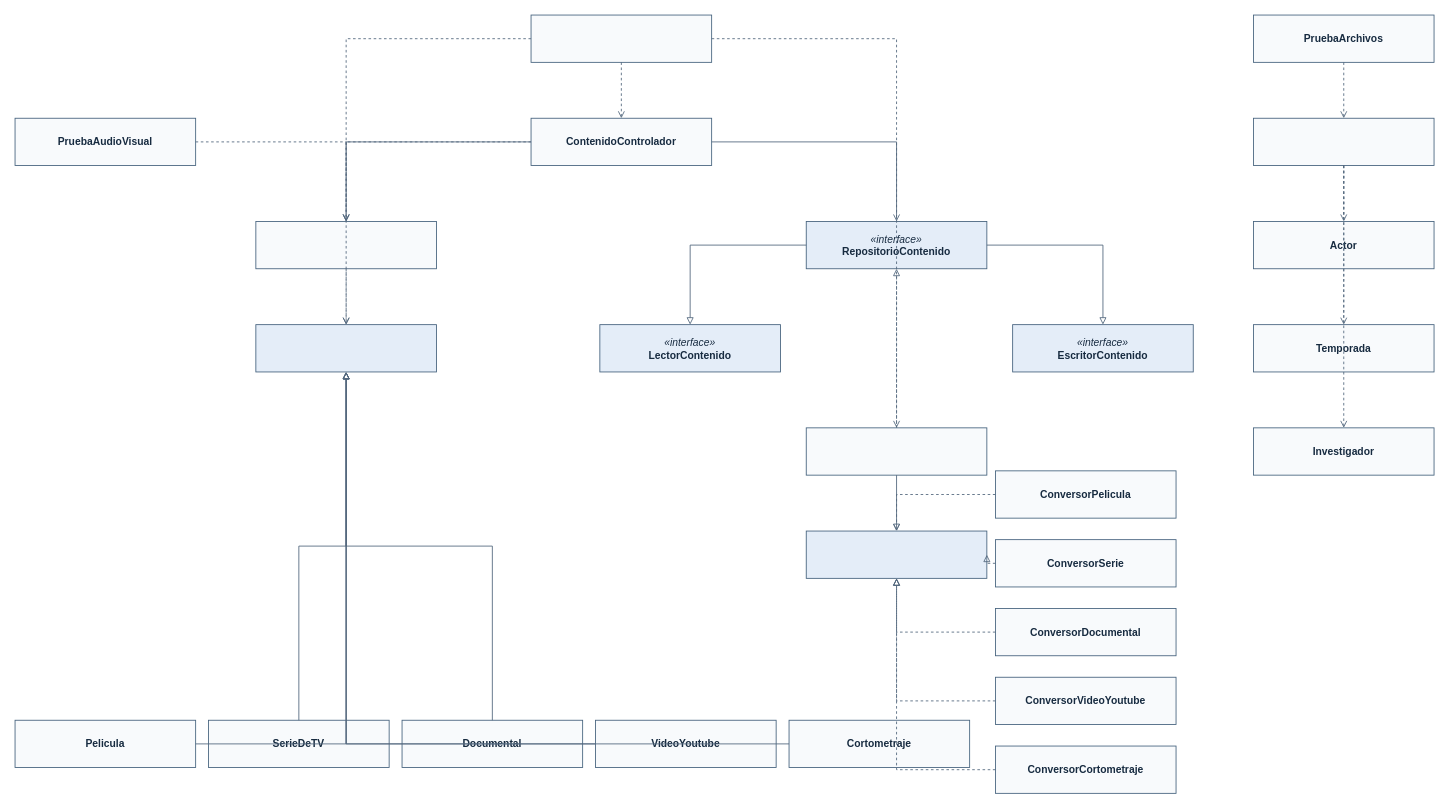
Image size: 1449x808. Some labels were removed from this diagram. Here are the shapes that lost their labels. From the top down, the box of each, then its label:
(530, 14, 712, 62): Principal
(1253, 117, 1434, 166): ArchivoDatosCSV
(255, 221, 436, 269): VistaConsola
(255, 324, 436, 372): «abstract» ContenidoAudiovisual
(805, 427, 987, 475): ArchivoCSV
(805, 530, 987, 578): «interface» ConversorContenidoCSV
